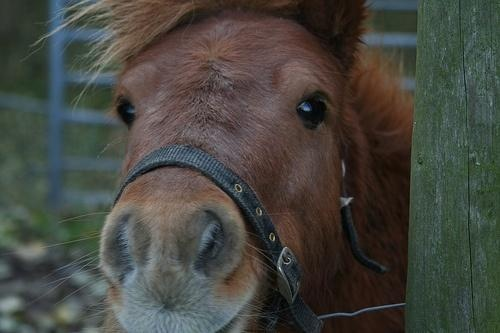horse: (18, 1, 416, 333)
